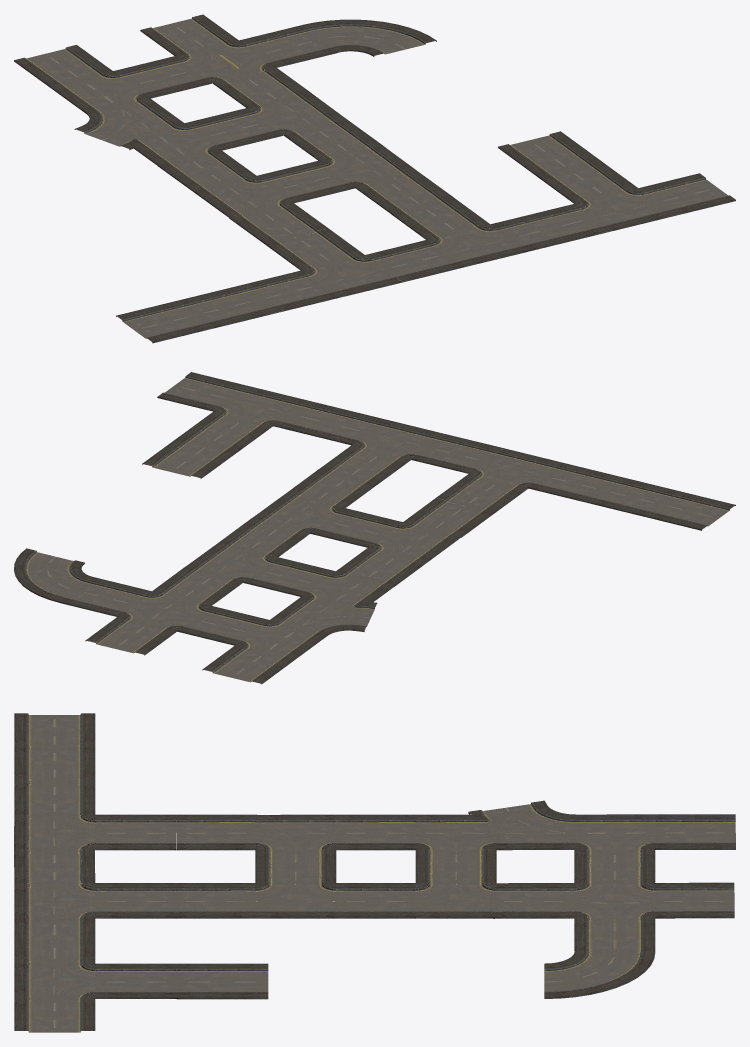
Rendered from 训练道路 2.fbx.
The picture shows the model from 3 angles, top to bottom: view 1: azimuth 30°, elevation 25°; view 2: azimuth 150°, elevation 25°; view 3: azimuth 270°, elevation 25°; orthographic projection. The views are drawn at different scales.
Parts seen in each view (by area): view 1: polySurface144; view 2: polySurface144; view 3: polySurface144.
Part boxes in pixels (box(x1,y1,x2,y2)): polySurface144: box(14, 14, 735, 343); polySurface144: box(14, 372, 735, 684); polySurface144: box(14, 713, 735, 1032).
Bounding box in the file's own units: 181 × 0.4059 × 174.
